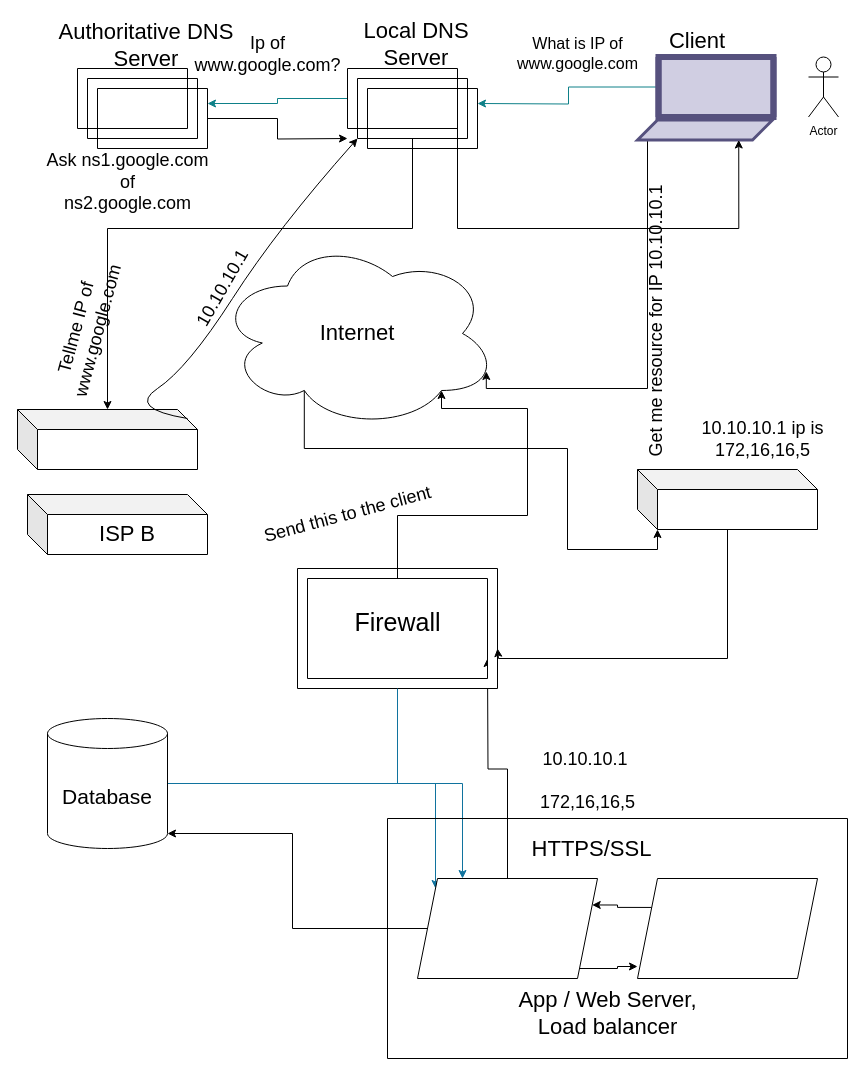
This 865x1076 diagram has some shape labels left out. The shapes that lost their labels are listed below. From the top down, each one's centre as x and y in pixels, then its label:
At (x=107, y=439): "ISP A".
At (x=727, y=499): "DNS Resolver".
